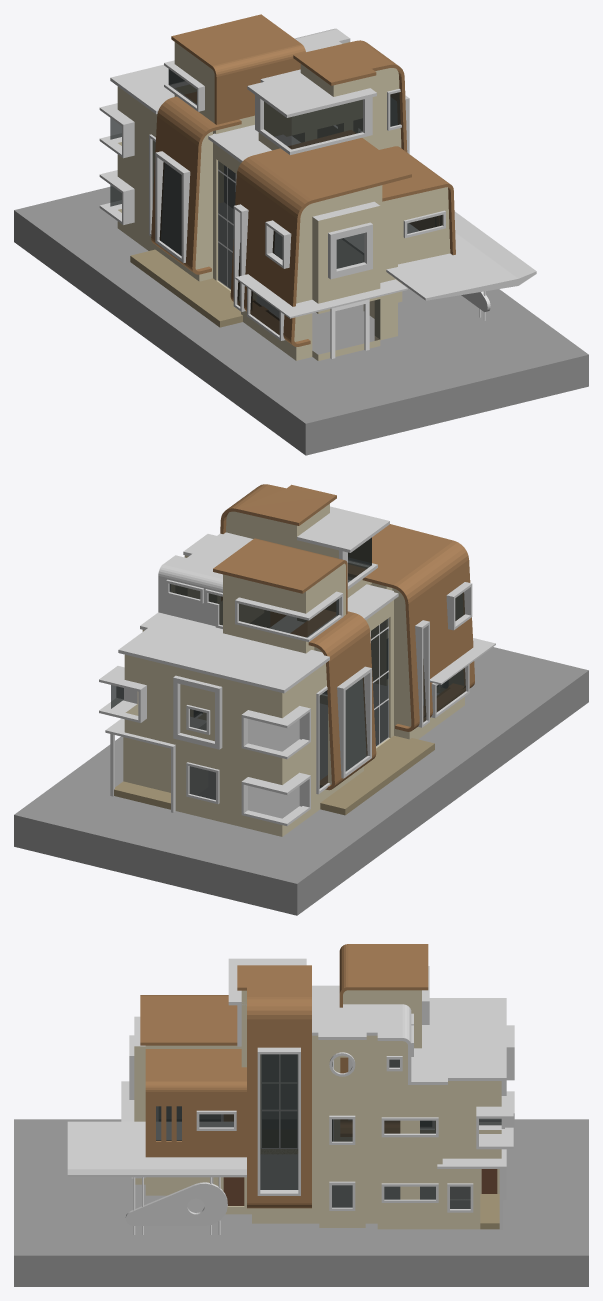
3 views of the same model, one above another, from view 1: azimuth 30°, elevation 25°; view 2: azimuth 150°, elevation 25°; view 3: azimuth 270°, elevation 25° (orthographic).
Visible parts, largest first — view 1: bg1_type_a; view 2: bg1_type_a; view 3: bg1_type_a.
Boxes of the visible parts, x1=… form: bg1_type_a: x1=14, y1=14, x2=588, y2=455; bg1_type_a: x1=14, y1=484, x2=588, y2=915; bg1_type_a: x1=14, y1=944, x2=588, y2=1286.
Size of the model in its own units: 18.6 by 16.07 by 33.2.
